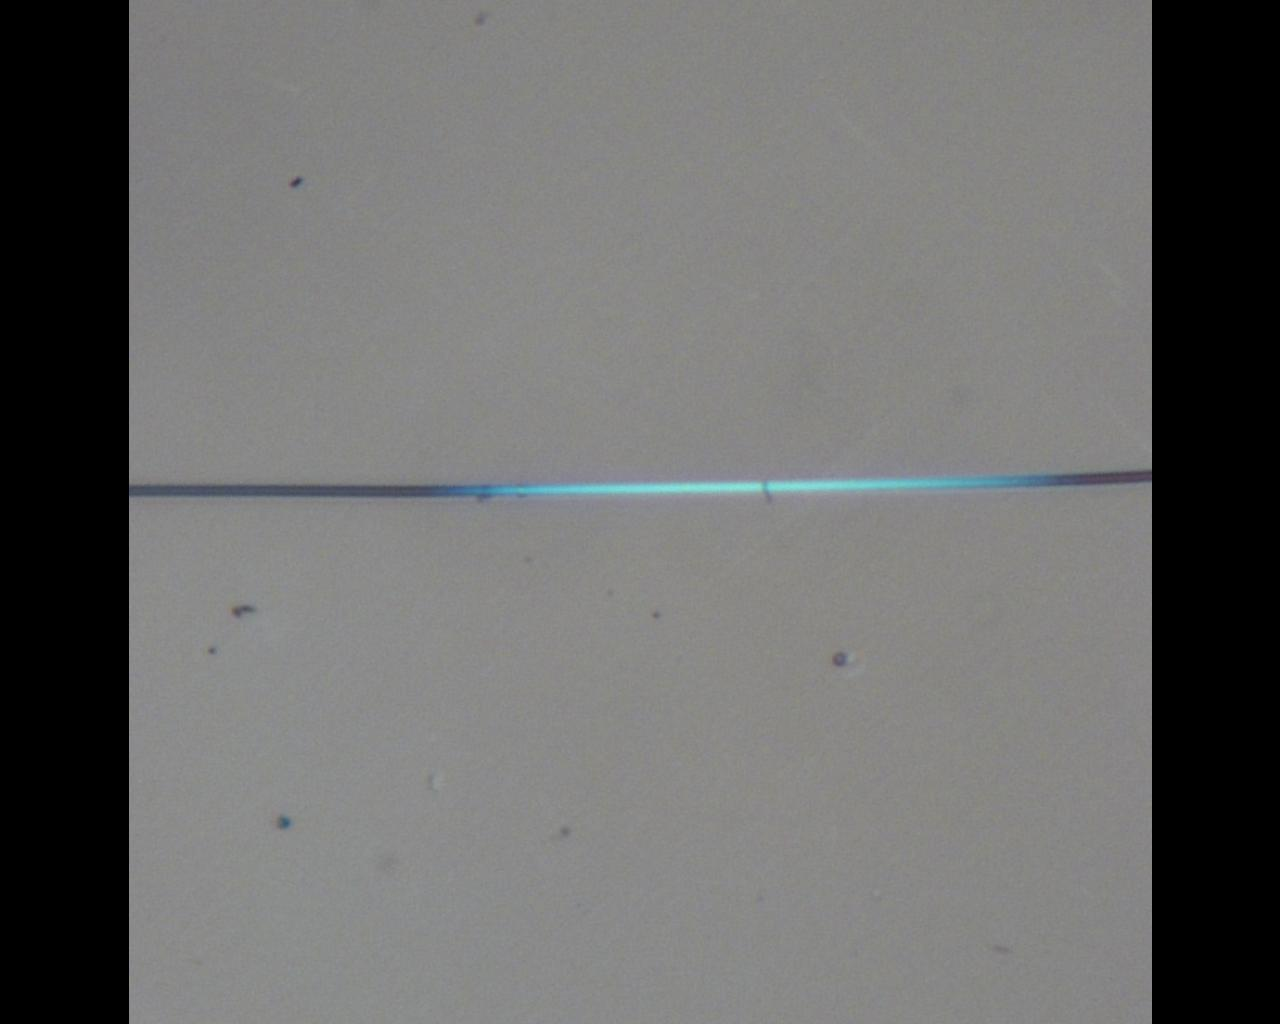fiber: (127, 471, 1151, 497)
